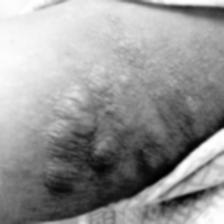Potentially Malignant Skin Tumors: (40, 83, 96, 194)
